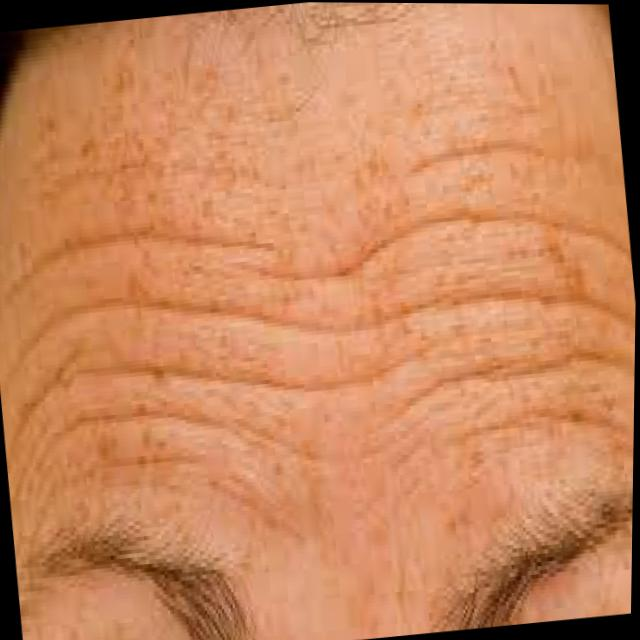Wrinkles: (1, 272, 636, 384), (8, 333, 459, 468), (3, 196, 632, 290), (24, 399, 347, 482), (386, 341, 636, 416), (445, 400, 635, 462), (38, 158, 289, 192), (397, 134, 564, 172)
